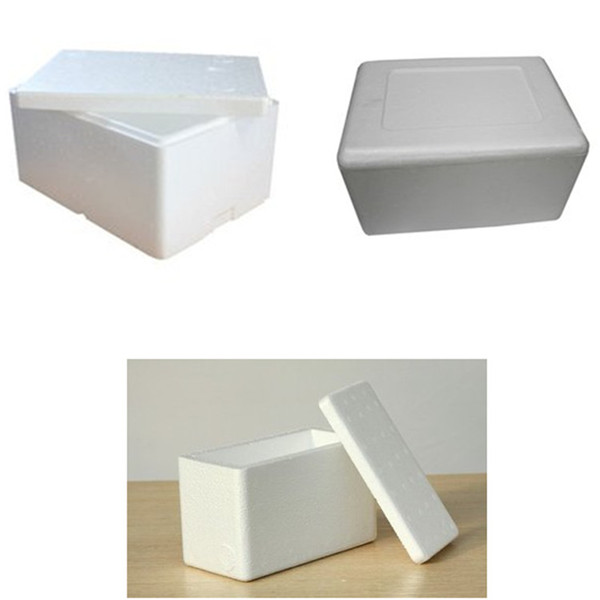Foam Box: (6, 38, 287, 265), (164, 375, 464, 587), (333, 48, 593, 247)
